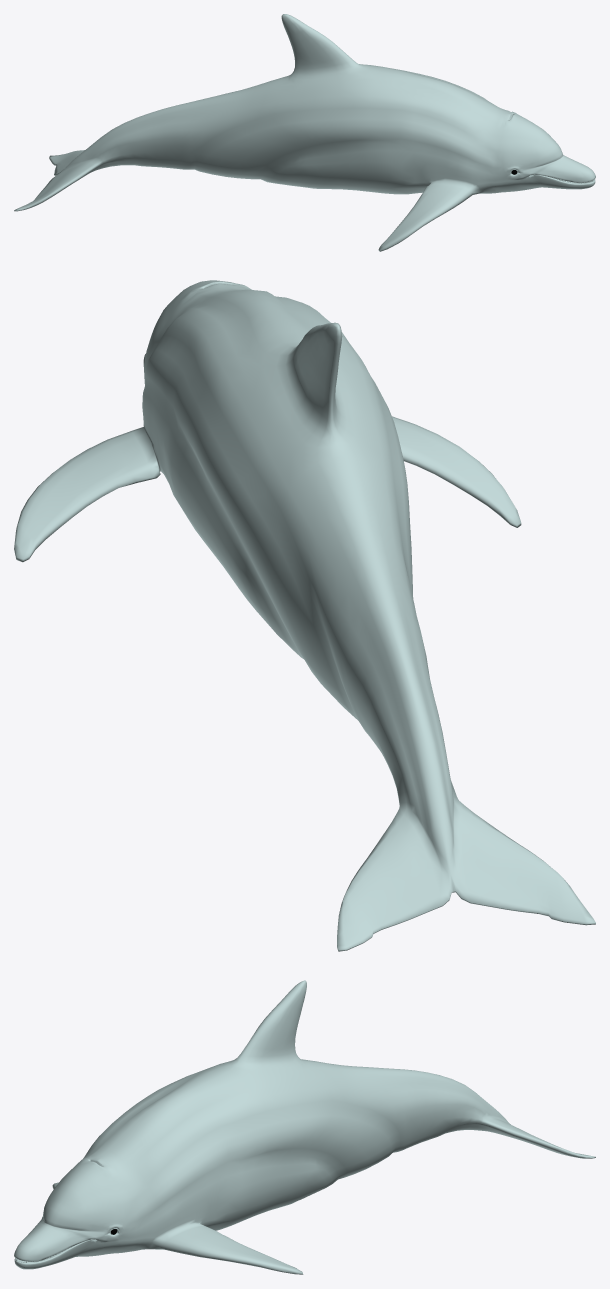
File: dolphin_000015.obj
3 views of the same model, one above another, from view 1: azimuth 30°, elevation 25°; view 2: azimuth 150°, elevation 25°; view 3: azimuth 270°, elevation 25° (orthographic). The views are drawn at different scales.
Parts seen in each view (by area): view 1: Dolphin; view 2: Dolphin; view 3: Dolphin.
Boxes of the visible parts, bbox=[...] form: Dolphin: bbox=[14, 14, 595, 251]; Dolphin: bbox=[14, 280, 595, 951]; Dolphin: bbox=[14, 980, 595, 1274].
Size of the model in its own units: 5.52 by 2.65 by 5.6.
